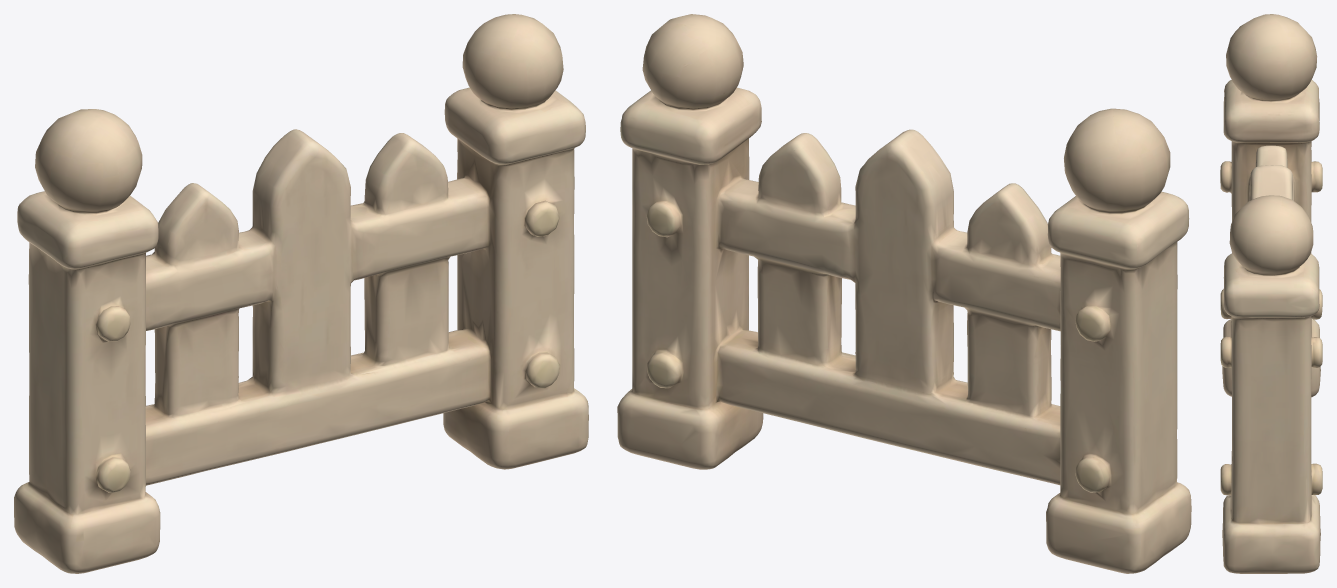
3 renders of one model, left to right at view 1: azimuth 30°, elevation 25°; view 2: azimuth 150°, elevation 25°; view 3: azimuth 270°, elevation 25°, orthographic. The views are drawn at different scales.
Visible parts, largest first — view 1: fence; view 2: fence; view 3: fence.
Part boxes in pixels (x1,y1,x2,y2): fence: (14, 14, 588, 573); fence: (617, 14, 1191, 573); fence: (1220, 14, 1322, 573).
Bounding box in the file's own units: 1.2 × 0.9439 × 0.2397.
1 material, 1 textured.
